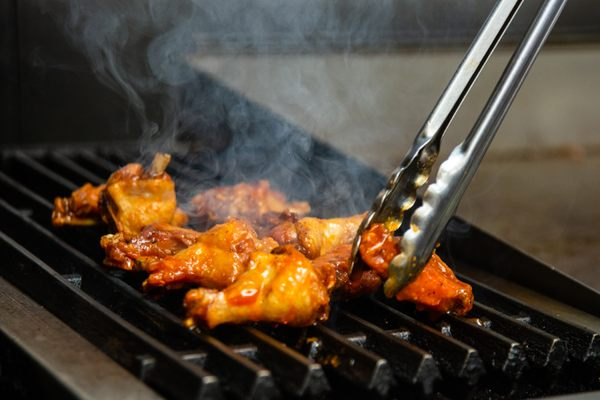burger: (1, 1, 501, 397)
